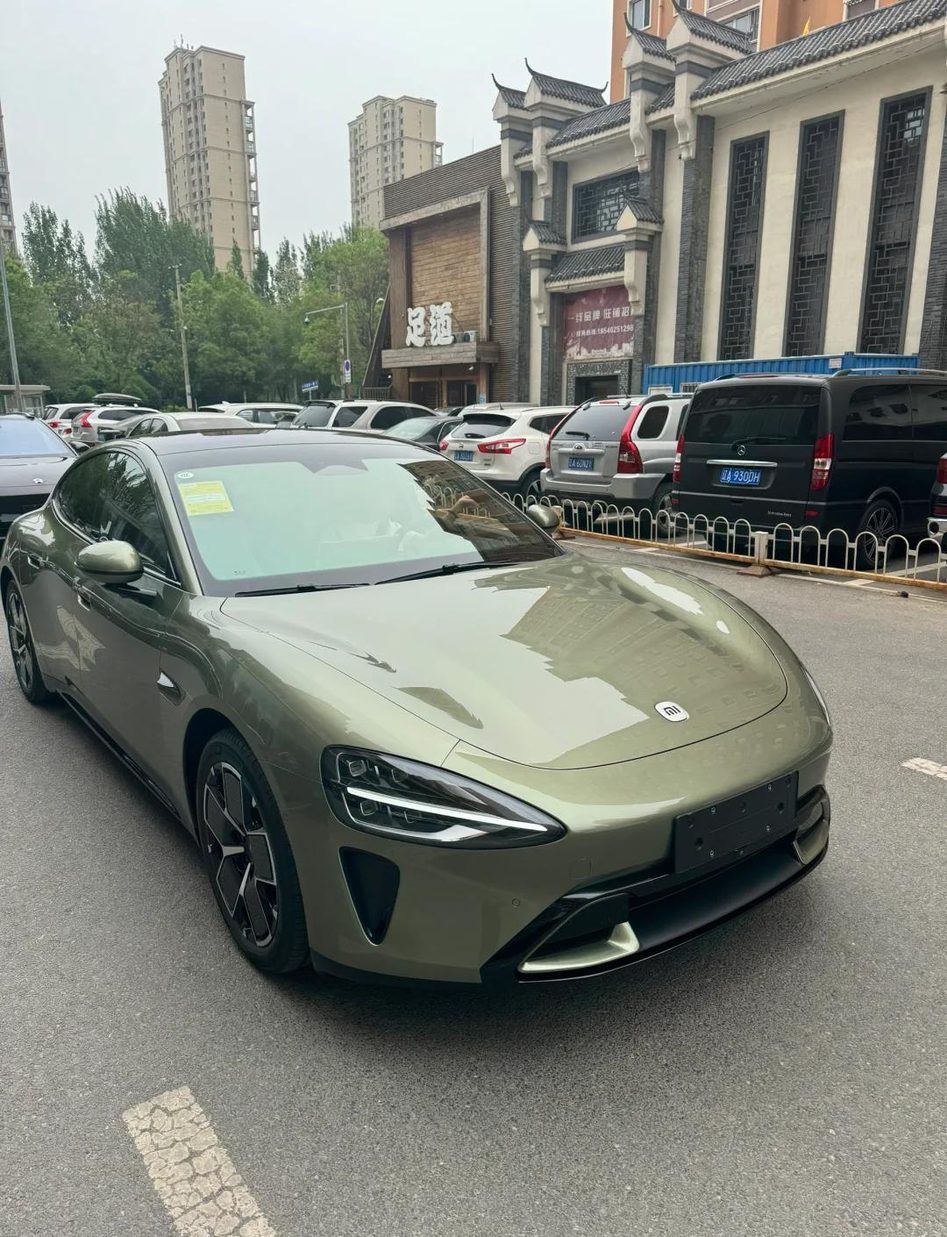other: (681, 364, 947, 557), (532, 373, 708, 530), (438, 379, 570, 486)
su7: (10, 419, 830, 1007)
